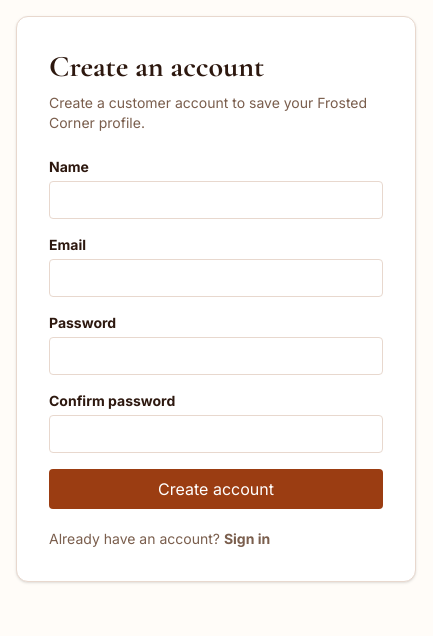
SignupPage › does not submit mismatched passwords
The width and height of the screenshot is (433, 636).
Type "New Customer" into the field labelled "Name".
click(216, 200); type("New Customer")  # box x1=49 y1=181 x2=383 y2=219
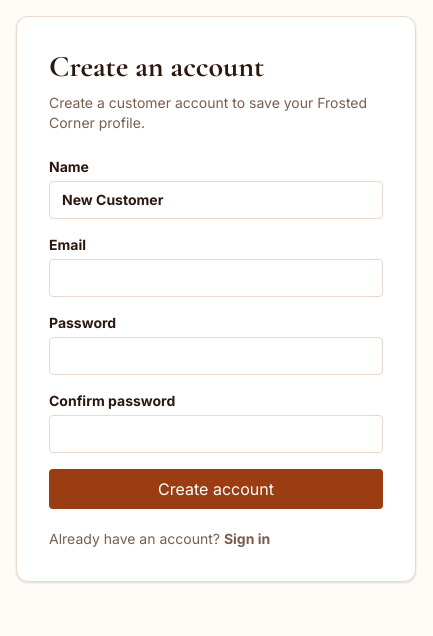
Type "new@example.com" into the field labelled "Email".
click(216, 278); type("new@example.com")  # box x1=49 y1=259 x2=383 y2=297
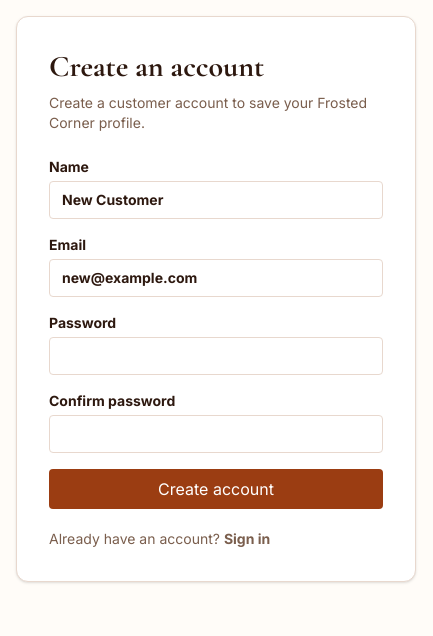
Type "safe-password" into the password field labelled "Password".
click(216, 356); type("safe-password")  # box x1=49 y1=337 x2=383 y2=375
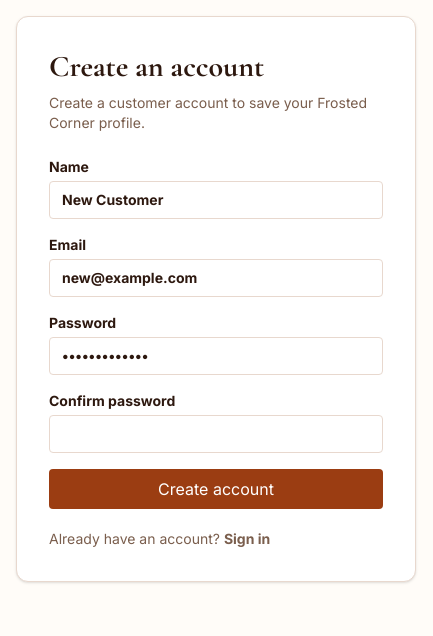
Type "different-password" into the password field labelled "Confirm password".
click(216, 434); type("different-password")  # box x1=49 y1=415 x2=383 y2=453
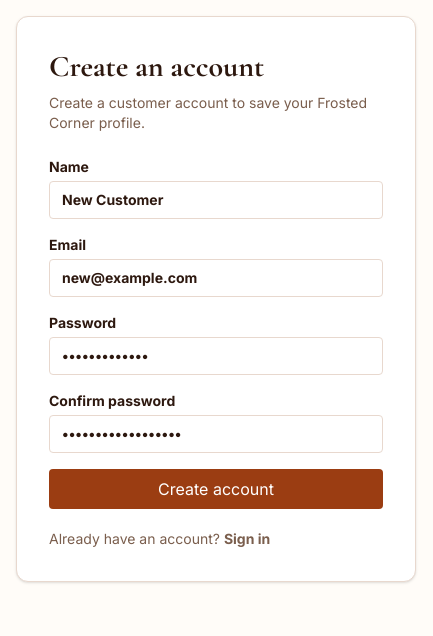
Click the button "Create account".
click(216, 489)  # box x1=49 y1=469 x2=383 y2=509
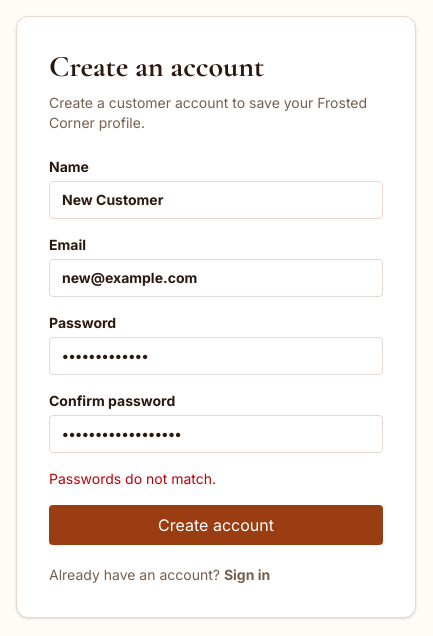
expect the message reads "Passwords do not match.": met, box x1=49 y1=470 x2=216 y2=487
